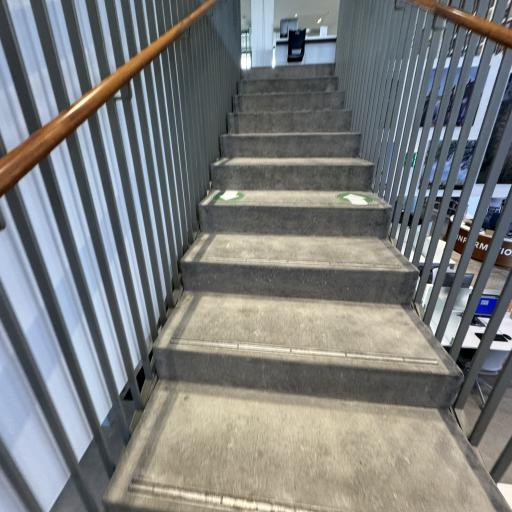Stairs: (103, 64, 509, 512), (104, 381, 510, 512), (154, 292, 461, 407), (181, 232, 418, 304), (199, 190, 392, 239), (211, 157, 374, 192), (220, 132, 360, 158), (228, 110, 352, 134), (234, 92, 344, 113)
